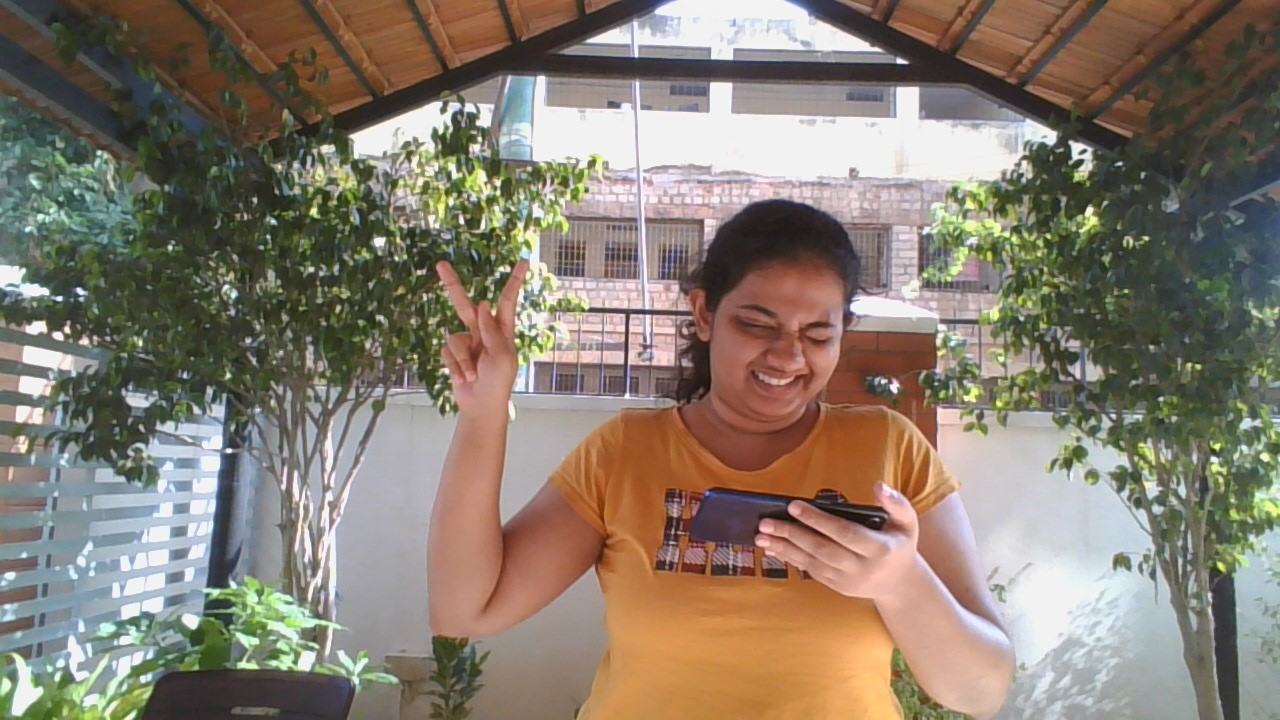k: (408, 252, 559, 419)
